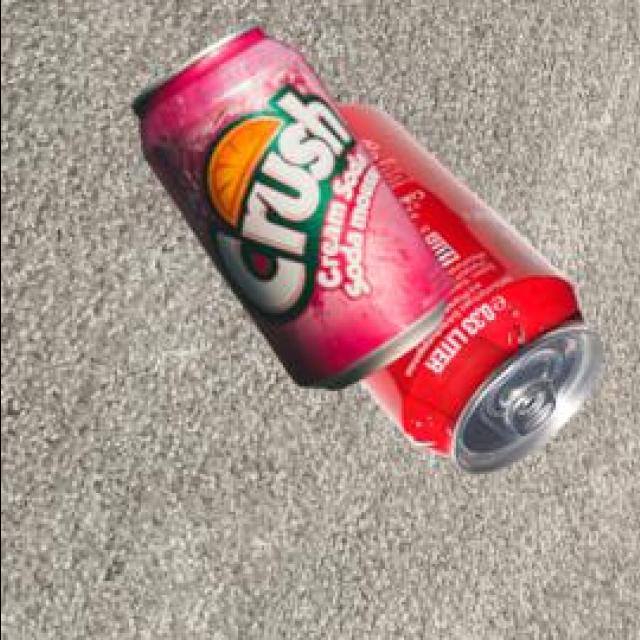logam: (134, 18, 456, 383), (340, 101, 603, 471)
